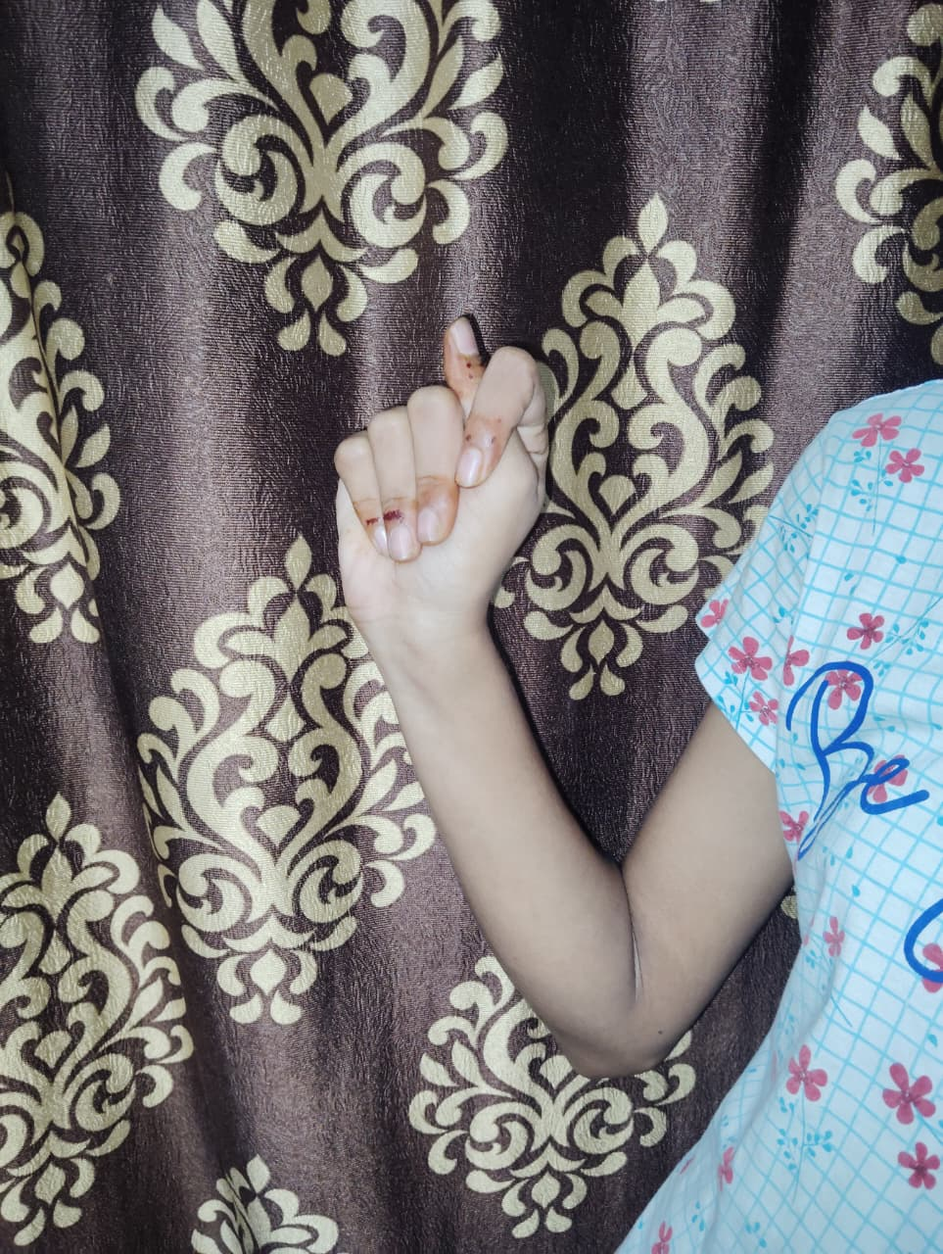T: (331, 317, 543, 629)
